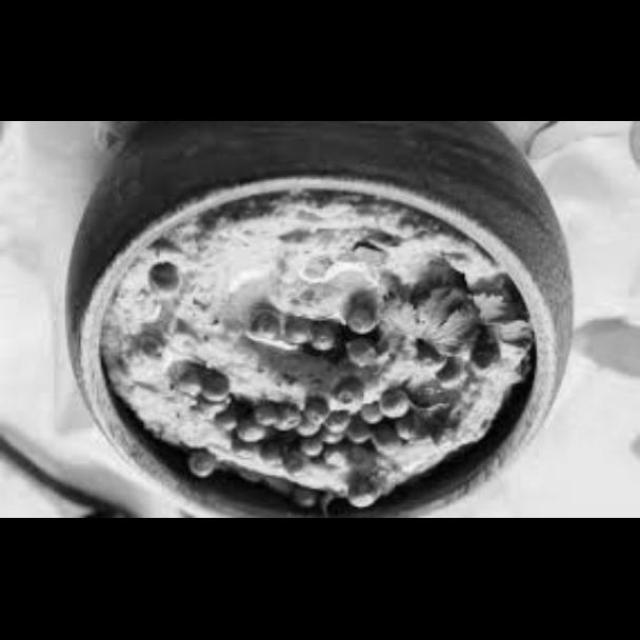dau Ha Lan: (226, 375, 448, 467), (239, 308, 353, 352), (431, 342, 506, 399), (165, 367, 243, 414), (332, 328, 393, 384), (335, 299, 402, 347), (338, 470, 393, 514), (141, 264, 192, 308), (420, 336, 460, 378), (143, 330, 175, 370), (290, 485, 328, 515), (175, 466, 214, 486)
